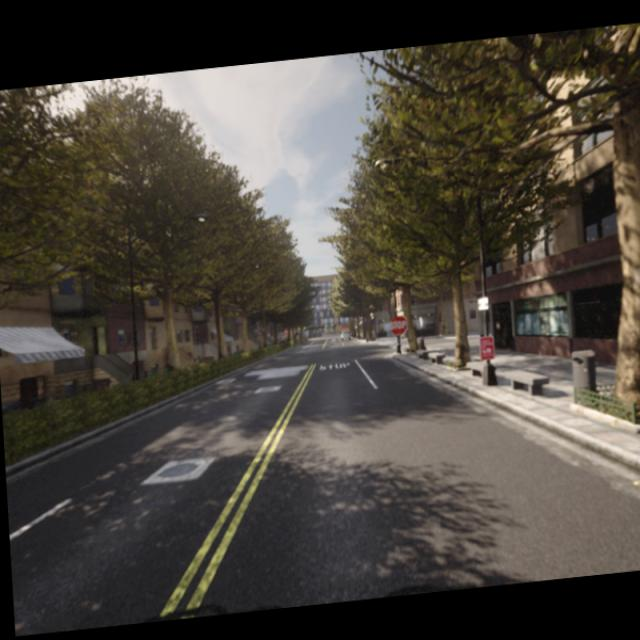stop sign: (391, 316, 411, 339)
